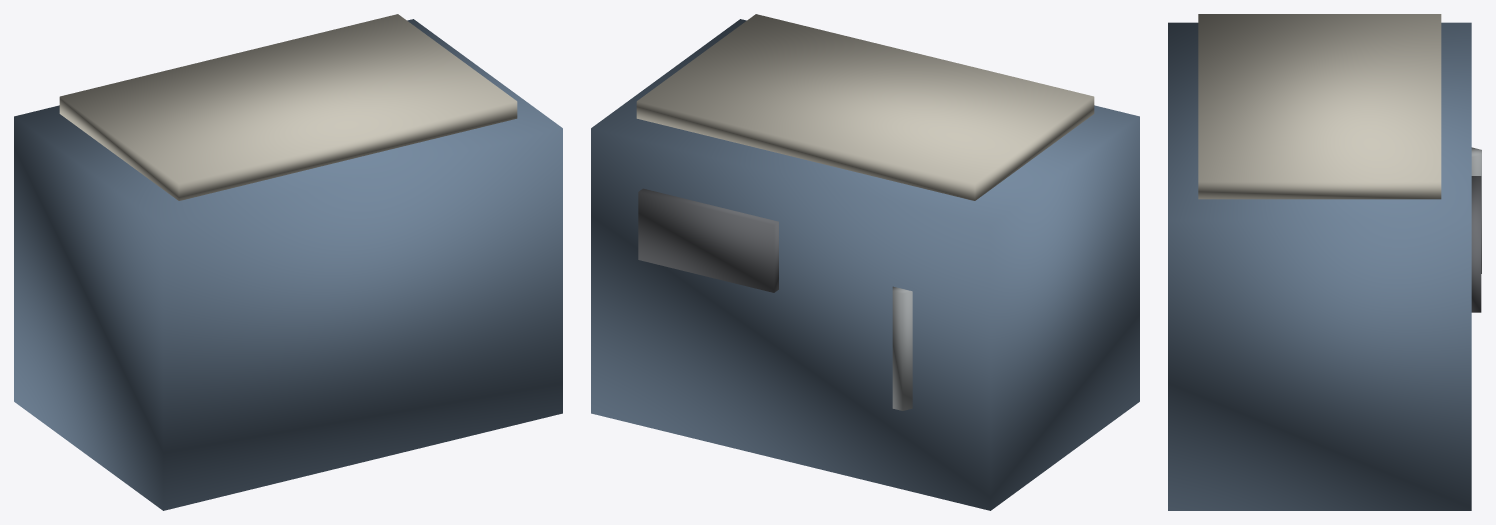
Rendered from lost_and_found_bin__service.glb.
The picture shows the model from 3 angles, left to right: view 1: azimuth 30°, elevation 25°; view 2: azimuth 150°, elevation 25°; view 3: azimuth 270°, elevation 25°; orthographic projection.
Visible parts, largest first — view 1: world; view 2: world; view 3: world.
Boxes of the visible parts, <box> form: world: <box>14,14,562,510</box>; world: <box>591,14,1139,510</box>; world: <box>1168,14,1481,510</box>.
Size of the model in its own units: 0.85 by 0.6275 by 0.5684.
